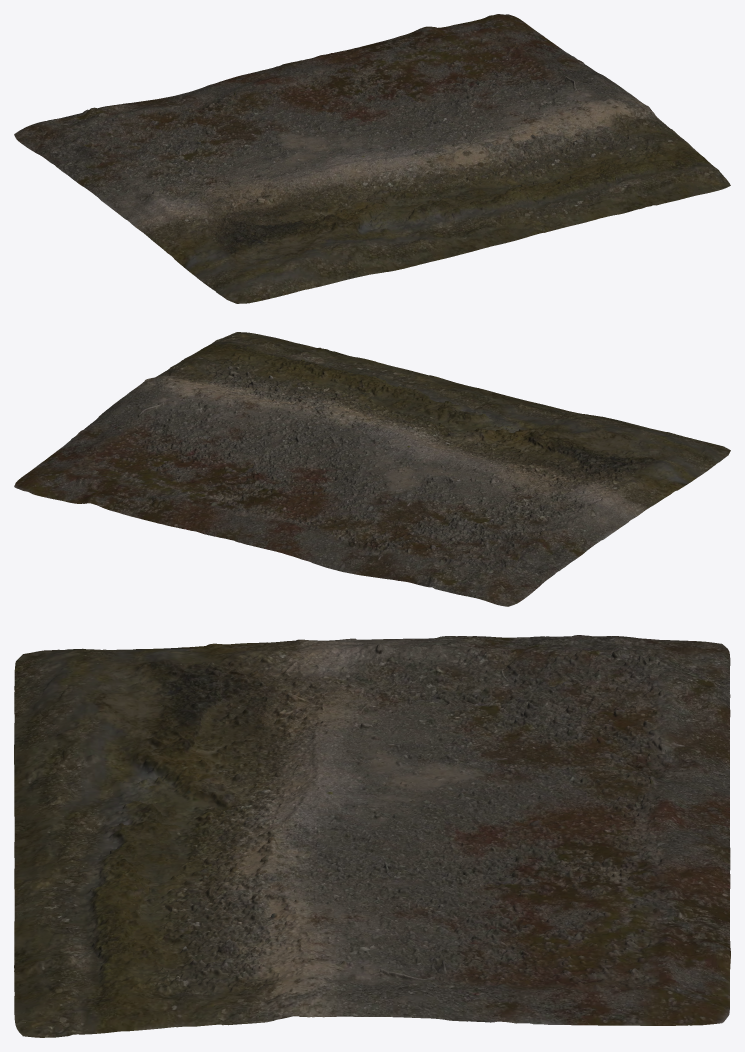
The model's file is polyhaven-coast-line-01.glb.
3 views of the same model, one above another, from view 1: azimuth 30°, elevation 25°; view 2: azimuth 150°, elevation 25°; view 3: azimuth 270°, elevation 25° (orthographic). The views are drawn at different scales.
Visible parts, largest first — view 1: coast_line_01; view 2: coast_line_01; view 3: coast_line_01.
Boxes of the visible parts, x1,y1,x2,y2 form: coast_line_01: (14,14,730,303); coast_line_01: (14,332,730,606); coast_line_01: (14,635,730,1037).
Bounding box in the file's own units: 54.61 × 2.63 × 42.97.
1 material, 1 textured.
